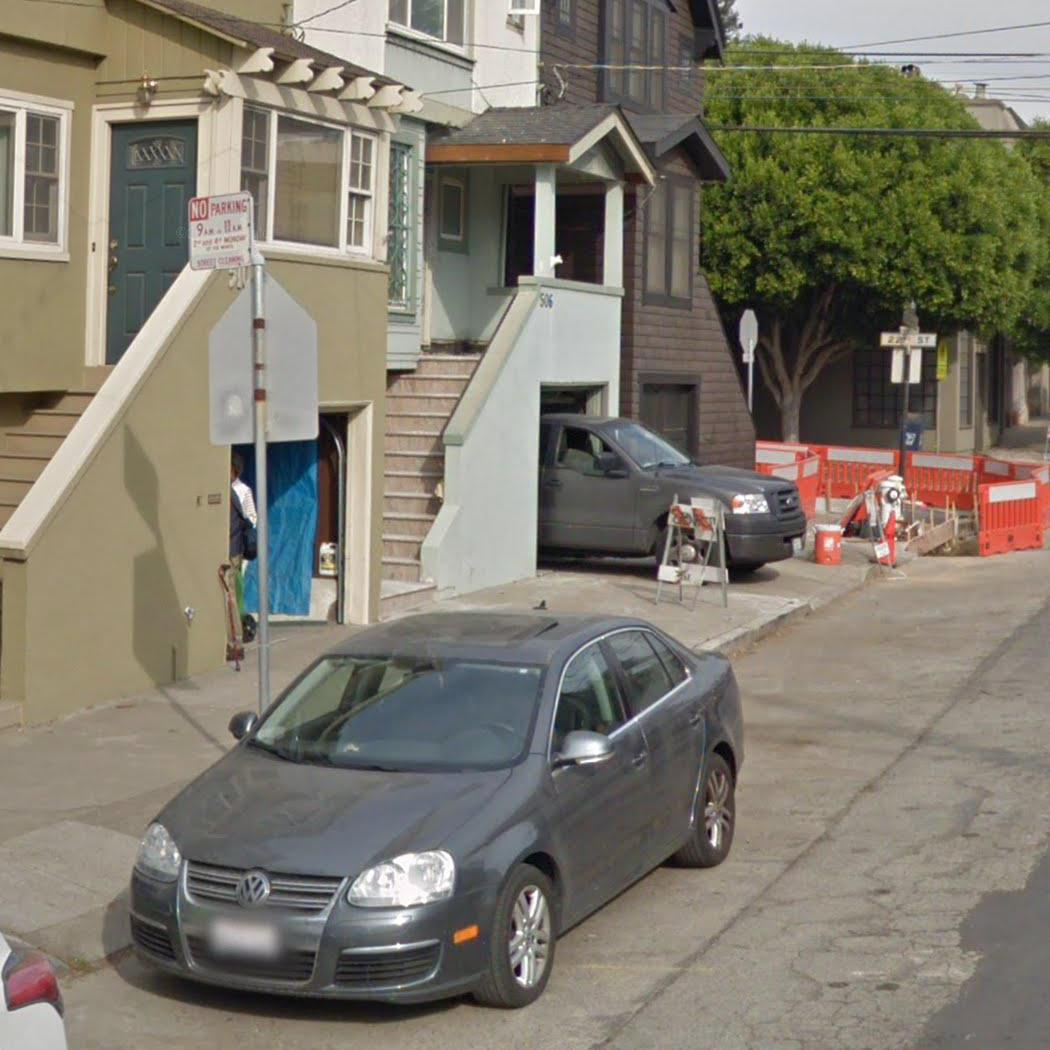No Parking: (180, 190, 261, 274)
